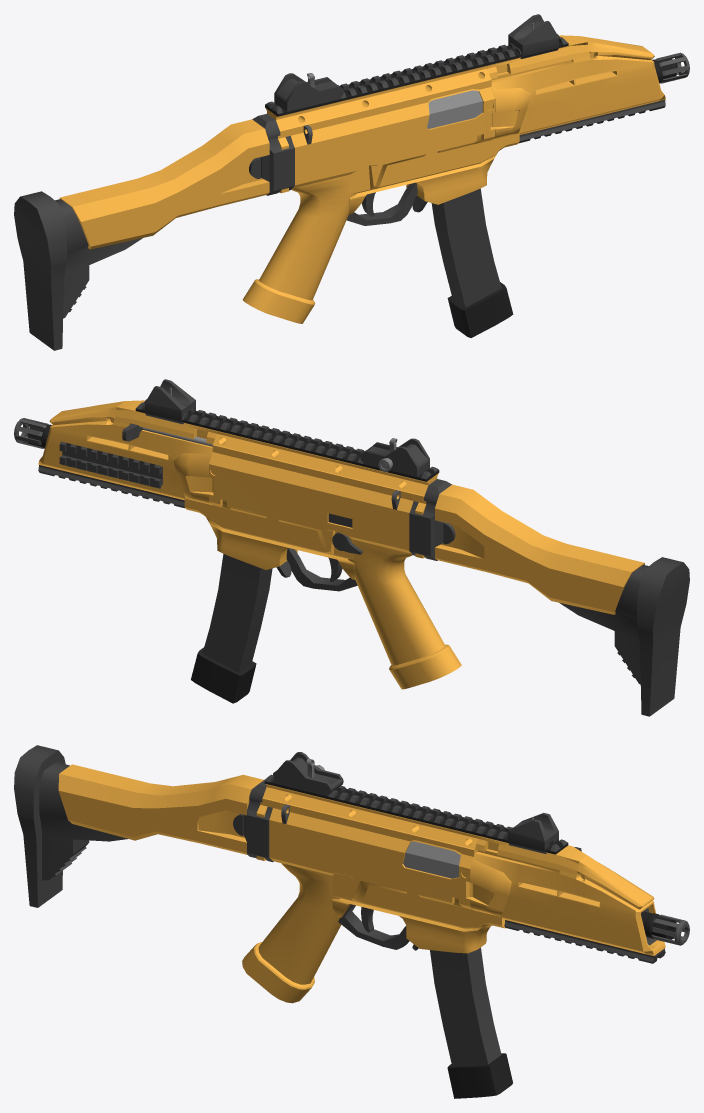
The model's file is CZ_Scorpion_Evo_Mesh.fbx.
The picture shows the model from 3 angles, top to bottom: view 1: azimuth 30°, elevation 25°; view 2: azimuth 150°, elevation 25°; view 3: azimuth 330°, elevation 25°; orthographic projection.
Visible parts, largest first — view 1: CZ_Scorpion_Evo; view 2: CZ_Scorpion_Evo; view 3: CZ_Scorpion_Evo.
Part boxes in pixels (x1,y1,x2,y2): CZ_Scorpion_Evo: (14,14,689,350); CZ_Scorpion_Evo: (14,379,689,716); CZ_Scorpion_Evo: (14,745,689,1098).
Size of the model in its own units: 0.6045 by 0.2609 by 0.0551.
